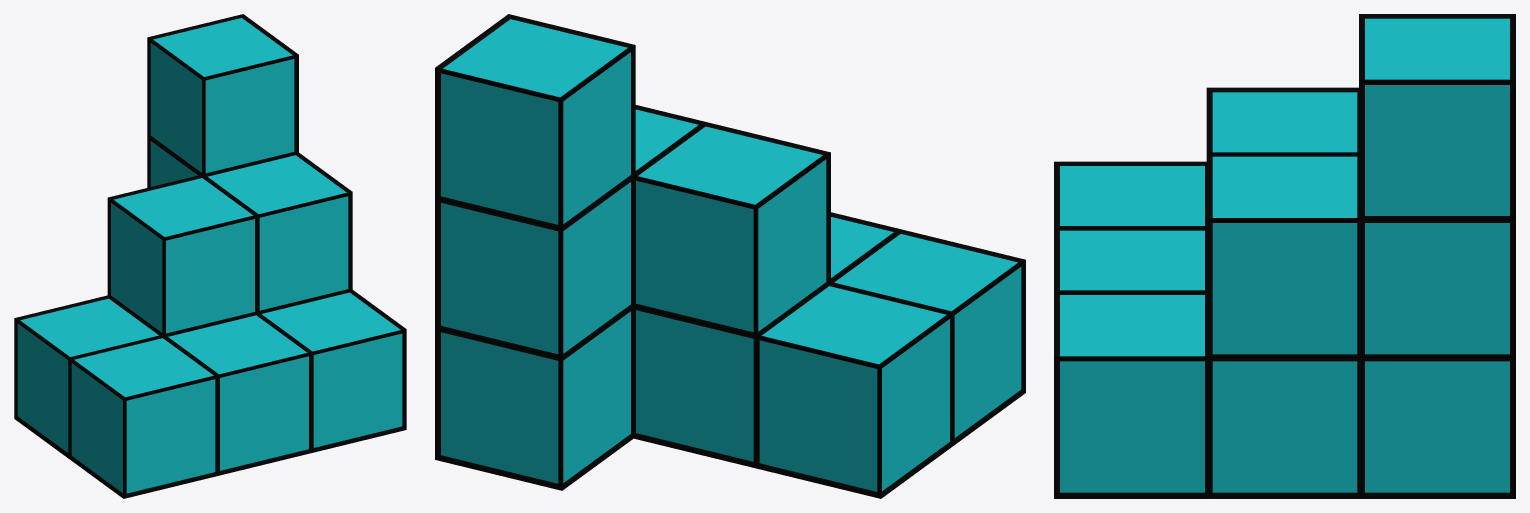
Rendered from Angabe-1.fbx.
3 views of the same model, side by side, from view 1: azimuth 30°, elevation 25°; view 2: azimuth 150°, elevation 25°; view 3: azimuth 270°, elevation 25° (orthographic). The views are drawn at different scales.
Parts seen in each view (by area): view 1: Angabe:Mesh; view 2: Angabe:Mesh; view 3: Angabe:Mesh.
Part boxes in pixels (bbox=[...]): Angabe:Mesh: bbox=[14, 14, 406, 498]; Angabe:Mesh: bbox=[435, 14, 1025, 498]; Angabe:Mesh: bbox=[1054, 14, 1515, 498].
Size of the model in its own units: 6.06 by 6.06 by 6.06.
